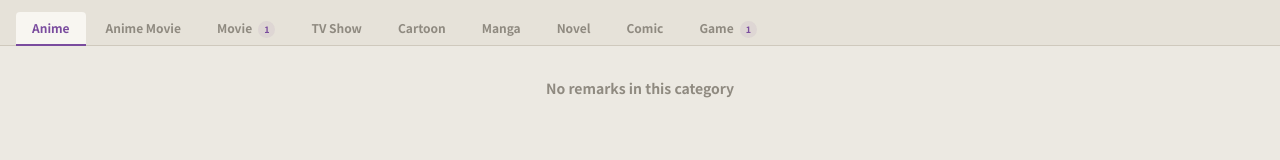
Test: shows the movie's release date and the game's status
The image size is (1280, 160).
Click the tab "Movie1". click: point(246, 29)
box: [201,12,291,46]
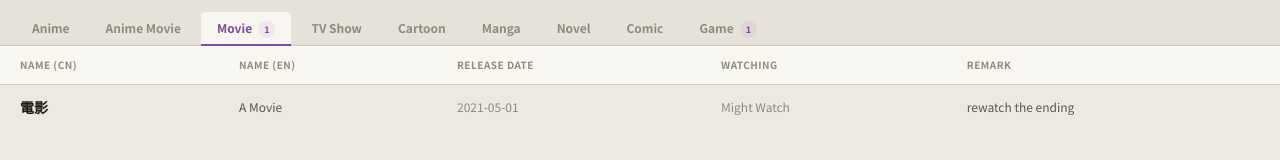
Expected: the text "2021-05-01" is shown, [437,85,701,129]
Click the tab "Game1". click: point(728, 29)
box: [683,12,773,46]
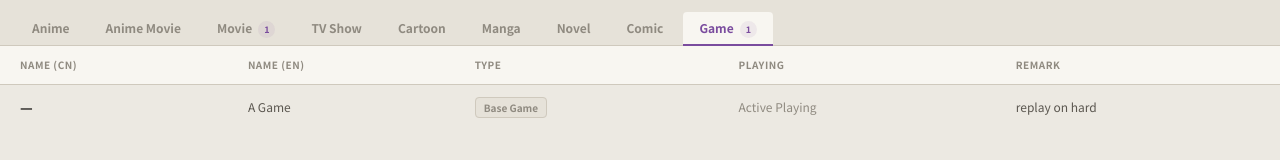
Expected: the text "Active Playing" is shown, [719,85,996,129]
